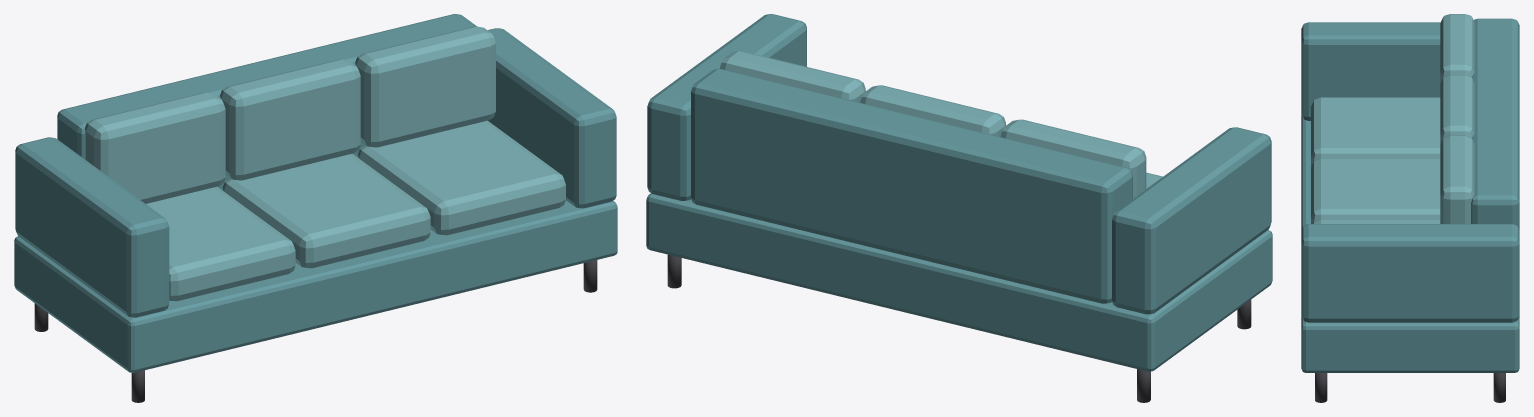
Rendered from INT_LobbySofa.fbx.
3 renders of one model, left to right at view 1: azimuth 30°, elevation 25°; view 2: azimuth 150°, elevation 25°; view 3: azimuth 270°, elevation 25°, orthographic. The views are drawn at different scales.
Parts seen in each view (by area): view 1: INT_Sofa_Base, INT_Sofa_ArmL, INT_Sofa_SeatCushion_03, INT_Sofa_SeatCushion_02, INT_Sofa_BackCushion_02, INT_Sofa_BackCushion_03, INT_Sofa_ArmR, INT_Sofa_BackCushion_01, INT_Sofa_SeatCushion_01, INT_Sofa_Back; view 2: INT_Sofa_Back, INT_Sofa_Base, INT_Sofa_ArmL, INT_Sofa_ArmR, INT_Sofa_BackCushion_01, INT_Sofa_BackCushion_02, INT_Sofa_BackCushion_03; view 3: INT_Sofa_ArmR, INT_Sofa_Base, INT_Sofa_ArmL, INT_Sofa_Back, INT_Sofa_SeatCushion_01, INT_Sofa_SeatCushion_02, INT_Sofa_BackCushion_03, INT_Sofa_BackCushion_01, INT_Sofa_BackCushion_02, INT_Sofa_SeatCushion_03, INT_Sofa_Leg_02, INT_Sofa_Leg_04.
Boxes of the visible parts, x1,y1,x2,y2 form: INT_Sofa_Base: [14, 200, 617, 372]; INT_Sofa_ArmL: [15, 137, 169, 317]; INT_Sofa_SeatCushion_03: [358, 120, 565, 235]; INT_Sofa_SeatCushion_02: [222, 153, 430, 268]; INT_Sofa_BackCushion_02: [220, 59, 360, 180]; INT_Sofa_BackCushion_03: [355, 26, 495, 147]; INT_Sofa_ArmR: [488, 28, 616, 208]; INT_Sofa_BackCushion_01: [85, 92, 225, 203]; INT_Sofa_SeatCushion_01: [146, 186, 295, 301]; INT_Sofa_Back: [57, 14, 476, 190]; INT_Sofa_Back: [691, 69, 1132, 303]; INT_Sofa_Base: [646, 193, 1272, 371]; INT_Sofa_ArmL: [1112, 127, 1271, 314]; INT_Sofa_ArmR: [647, 14, 806, 200]; INT_Sofa_BackCushion_01: [1000, 119, 1146, 198]; INT_Sofa_BackCushion_02: [860, 85, 1005, 136]; INT_Sofa_BackCushion_03: [719, 51, 865, 102]; INT_Sofa_ArmR: [1301, 224, 1519, 322]; INT_Sofa_Base: [1301, 115, 1519, 372]; INT_Sofa_ArmL: [1301, 22, 1440, 120]; INT_Sofa_Back: [1471, 18, 1519, 229]; INT_Sofa_SeatCushion_01: [1311, 97, 1440, 166]; INT_Sofa_SeatCushion_02: [1311, 158, 1440, 223]; INT_Sofa_BackCushion_03: [1440, 135, 1474, 223]; INT_Sofa_BackCushion_01: [1440, 14, 1474, 83]; INT_Sofa_BackCushion_02: [1440, 75, 1474, 144]; INT_Sofa_SeatCushion_03: [1313, 219, 1440, 223]; INT_Sofa_Leg_02: [1315, 373, 1327, 402]; INT_Sofa_Leg_04: [1493, 373, 1505, 402].
Size of the model in its own units: 210 by 88 by 88.
